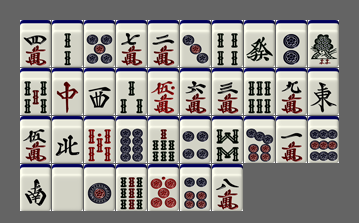0m: (148, 68, 179, 115)
0p: (148, 164, 179, 211)
0s: (84, 116, 115, 163)
1m: (276, 116, 307, 163)
1p: (84, 164, 115, 211)
1s: (308, 20, 339, 67)
1z: (308, 68, 339, 115)
2m: (148, 20, 179, 67)
2p: (276, 20, 307, 67)
2s: (52, 20, 83, 67)
2z: (20, 164, 51, 211)
3m: (212, 68, 243, 115)
3p: (180, 20, 211, 67)
3s: (116, 68, 147, 115)
3z: (84, 68, 115, 115)
4m: (20, 20, 51, 67)
4p: (180, 116, 211, 163)
4s: (212, 20, 243, 67)
4z: (52, 116, 83, 163)
5m: (20, 116, 51, 163)
5p: (84, 20, 115, 67)
5s: (20, 68, 51, 115)
5z: (52, 164, 83, 211)
6m: (180, 68, 211, 115)
6p: (180, 164, 211, 211)
6s: (244, 68, 275, 115)
6z: (244, 20, 275, 67)
7m: (116, 20, 147, 67)
7p: (244, 116, 275, 163)
7s: (148, 116, 179, 163)
7z: (52, 68, 83, 115)
8m: (212, 164, 243, 211)
8p: (116, 116, 147, 163)
8s: (212, 116, 243, 163)
9m: (276, 68, 307, 115)
9p: (308, 116, 339, 163)
9s: (116, 164, 147, 211)
